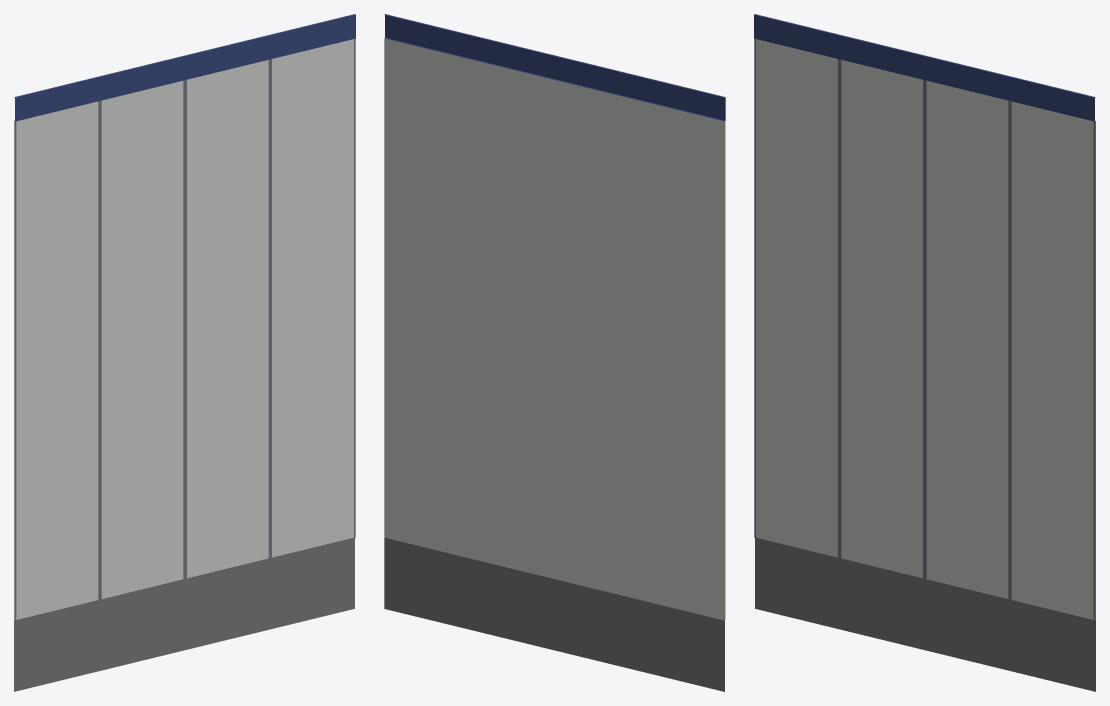
3 views of the same model, side by side, from view 1: azimuth 30°, elevation 25°; view 2: azimuth 150°, elevation 25°; view 3: azimuth 330°, elevation 25° (orthographic).
Parts seen in each view (by area): view 1: a1028/0/base-w1; view 2: a1028/0/base-w1; view 3: a1028/0/base-w1.
Boxes of the visible parts, x1=… form: a1028/0/base-w1: x1=14, y1=14, x2=355, y2=691; a1028/0/base-w1: x1=384, y1=14, x2=725, y2=691; a1028/0/base-w1: x1=754, y1=14, x2=1095, y2=691.
Bounding box in the file's own units: 6 × 10 × 0.03.
